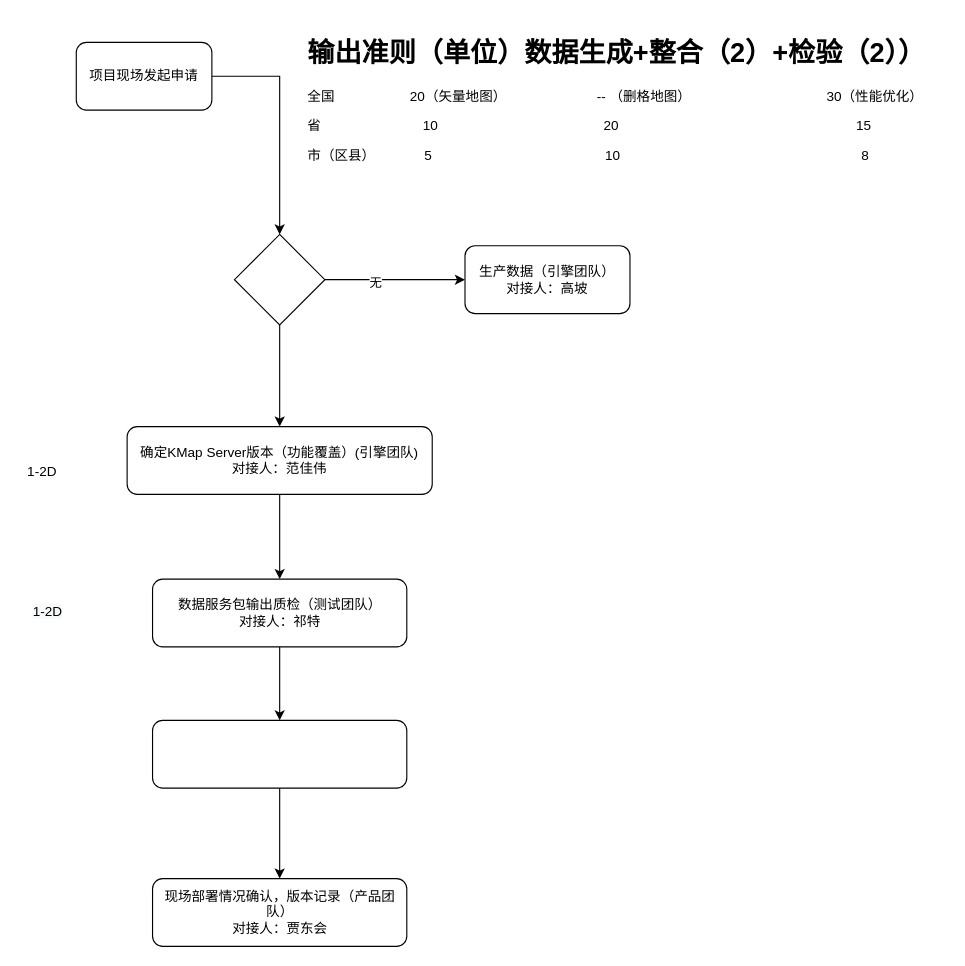
Some shapes in this 965 by 966 pixel diagram are drawn without their labels. Each missing label, with the centre of its shape:
"是否有数据" belongs at [279,279].
"部署-确保最佳实践运行成功（运维团队） 对接人：谈菁钰" belongs at [279,753].
